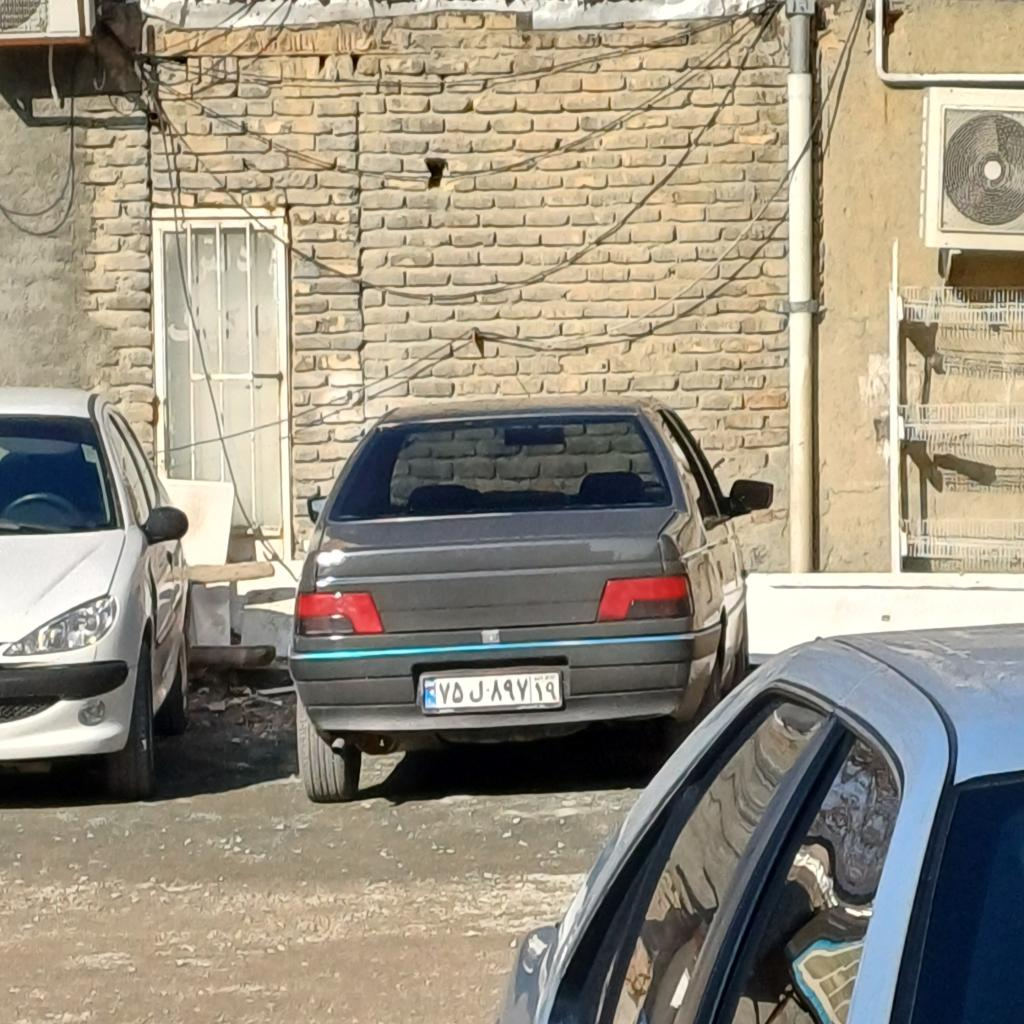Plates: (423, 672, 560, 708)
